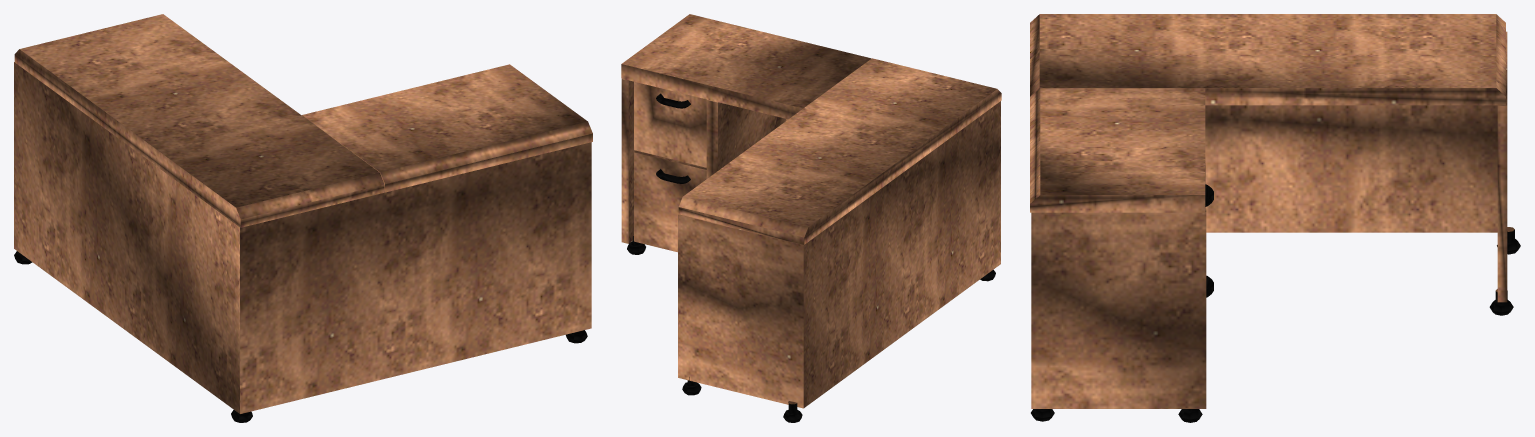
The model's file is Desk.fbx.
3 renders of one model, left to right at view 1: azimuth 30°, elevation 25°; view 2: azimuth 150°, elevation 25°; view 3: azimuth 270°, elevation 25°, orthographic. The views are drawn at different scales.
Visible parts, largest first — view 1: triangle #377; view 2: triangle #377; view 3: triangle #377.
Boxes of the visible parts, x1,y1,x2,y2 form: triangle #377: [14, 14, 592, 422]; triangle #377: [621, 14, 1001, 422]; triangle #377: [1030, 14, 1520, 422].
Bounding box in the file's own units: 353 × 210 × 404.
2 materials, 2 textured.
